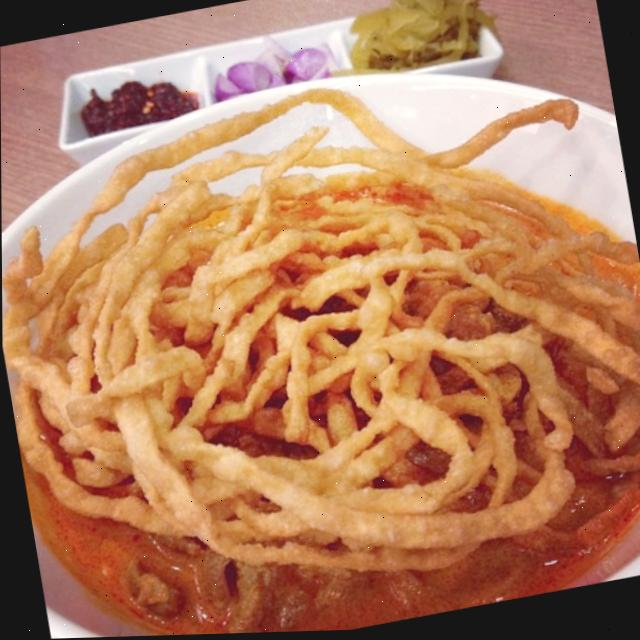面条主食: (1, 90, 640, 640)
